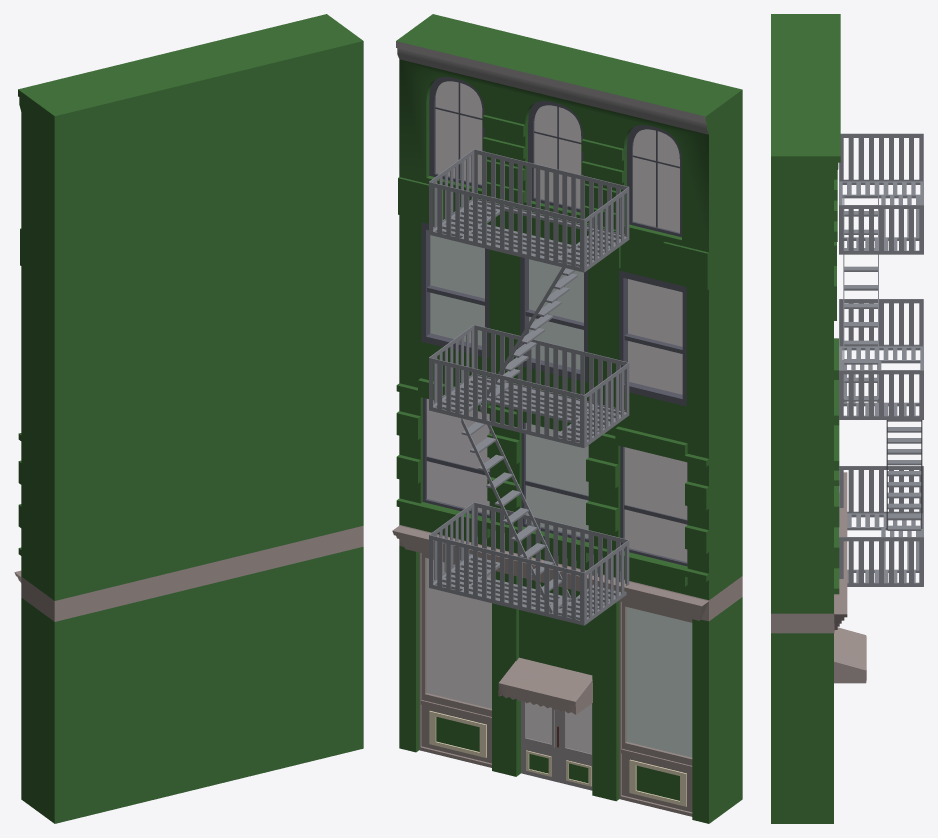
3 renders of one model, left to right at view 1: azimuth 30°, elevation 25°; view 2: azimuth 150°, elevation 25°; view 3: azimuth 270°, elevation 25°, orthographic. The views are drawn at different scales.
Visible parts, largest first — view 1: RDC006; view 2: RDC006; view 3: RDC006.
Boxes of the visible parts, box(x1,y1,x2,y2) form: RDC006: box(14, 14, 363, 823); RDC006: box(392, 14, 742, 823); RDC006: box(771, 14, 923, 823).
Size of the model in its own units: 315 by 690 by 143.
